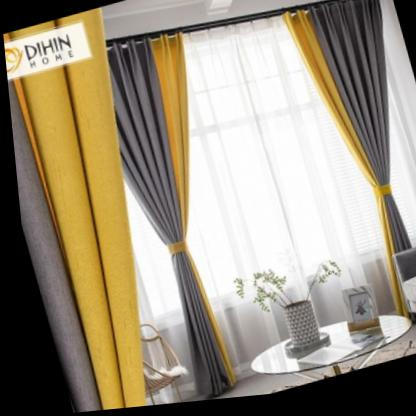Curtains: (95, 0, 416, 384)
